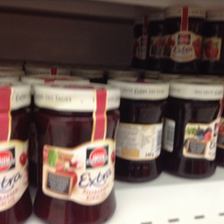jam: (32, 82, 121, 224), (111, 78, 169, 184), (166, 80, 221, 179), (163, 4, 206, 76)
